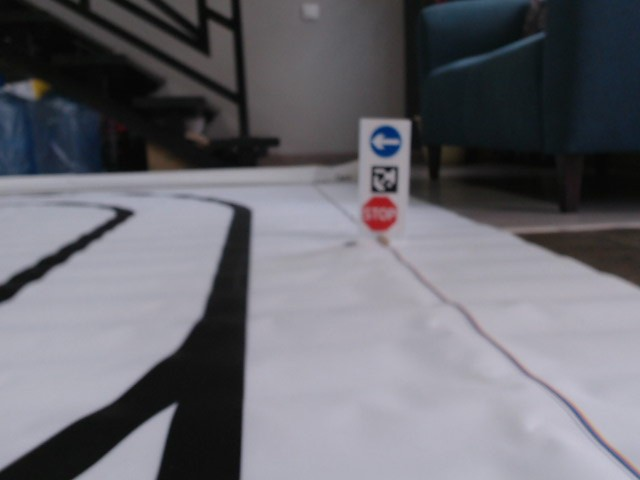Stop: (361, 196, 398, 232)
